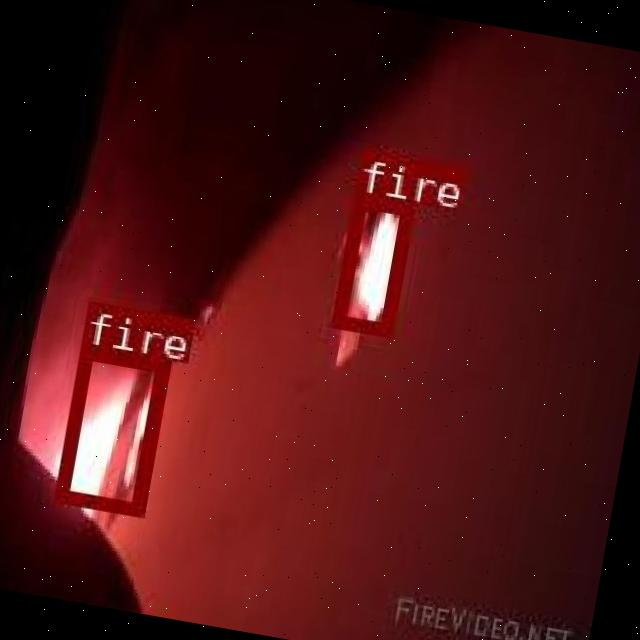fire: (53, 342, 166, 514), (328, 192, 412, 336)
